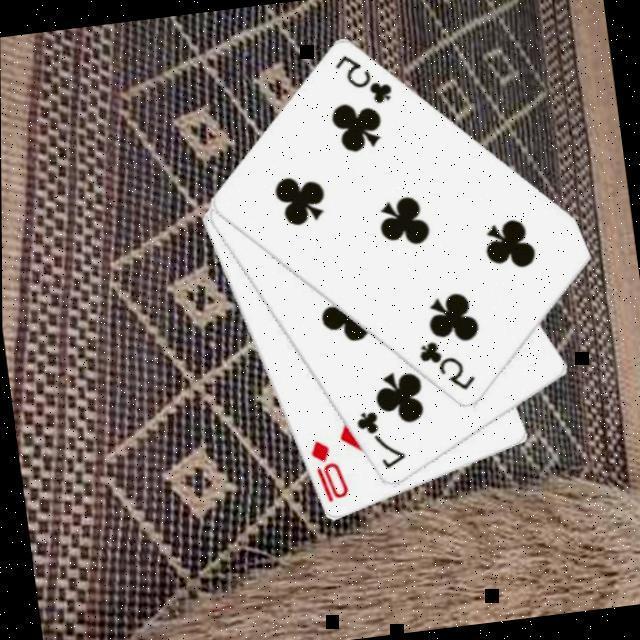10D: (306, 436, 352, 509)
5C: (330, 48, 398, 115), (413, 334, 480, 401)
7C: (351, 406, 410, 478)
